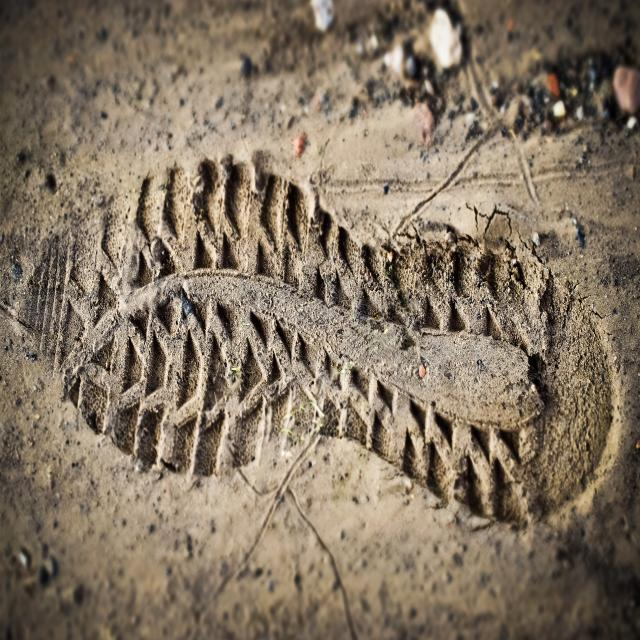human_footprint: (26, 151, 620, 532)
